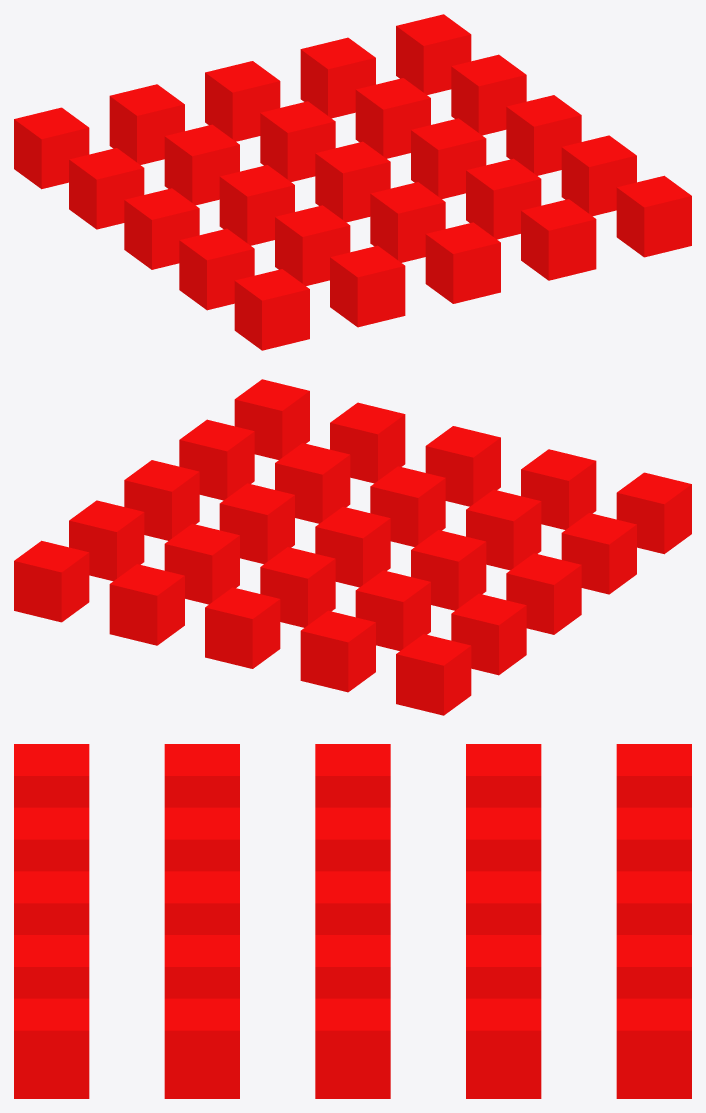
File: AddDeleteOverridesTestTest.gltf
The picture shows the model from 3 angles, top to bottom: view 1: azimuth 30°, elevation 25°; view 2: azimuth 150°, elevation 25°; view 3: azimuth 270°, elevation 25°; orthographic projection. The views are drawn at different scales.
Parts seen in each view (by area): view 1: d7847b73-c9d0-4b13-84c0-2eb0fa26d23d_mesh, bd96fc30-b430-4335-9598-58e1728aca2a_mesh, 16aa0c53-0cfd-4edb-a8e8-47e5a5d94a67_mesh, 3071bda9-e623-47a6-a64b-bba2e9a2588a_mesh, 2e7745fb-f78b-4748-9907-2500d096bcb5_mesh, 9061d52a-7a5b-4df0-ac10-120656057b61_mesh, adcbd2ff-8705-48dd-8040-547fe7599d20_mesh, 42d43924-17d0-4d6a-b59c-8d3b5c53979d_mesh, 6873eba1-29e8-435c-ae31-4a9f1d471cd7_mesh, f62bfc15-d88f-49f2-ba72-03d10684296d_mesh, 25e0a090-681d-48a6-8e15-4cc8d159fc66_mesh, 169d0338-20ba-4b96-92c5-f37ab3f6a44e_mesh (+13 smaller); view 2: 6873eba1-29e8-435c-ae31-4a9f1d471cd7_mesh, 25e0a090-681d-48a6-8e15-4cc8d159fc66_mesh, 8ba4f31e-3ecc-4ca6-81cb-70470c580416_mesh, 7f7aadfb-e6de-4908-a5a8-adef978d6813_mesh, b2e77843-7e80-4371-90ae-898aebd257c7_mesh, 9061d52a-7a5b-4df0-ac10-120656057b61_mesh, 42d43924-17d0-4d6a-b59c-8d3b5c53979d_mesh, adcbd2ff-8705-48dd-8040-547fe7599d20_mesh, d7847b73-c9d0-4b13-84c0-2eb0fa26d23d_mesh, bd96fc30-b430-4335-9598-58e1728aca2a_mesh, a06711d9-e367-42e9-8317-f70d38ba427b_mesh, 1237109f-8caa-4f4d-887f-fe1f242e1256_mesh (+13 smaller); view 3: ac84ad61-59de-4d2d-86d1-ec53b032f39f_mesh, 3071bda9-e623-47a6-a64b-bba2e9a2588a_mesh, 0433e109-240a-4f75-803b-0b1729ebf6e9_mesh, 98ced92f-5093-485d-824c-9c41ed5fbf1b_mesh, 7f7aadfb-e6de-4908-a5a8-adef978d6813_mesh, 05c4649b-ecaf-440e-a66b-c75519c0abf6_mesh, bd96fc30-b430-4335-9598-58e1728aca2a_mesh, a06711d9-e367-42e9-8317-f70d38ba427b_mesh, f62bfc15-d88f-49f2-ba72-03d10684296d_mesh, 25e0a090-681d-48a6-8e15-4cc8d159fc66_mesh, d7847b73-c9d0-4b13-84c0-2eb0fa26d23d_mesh, adcbd2ff-8705-48dd-8040-547fe7599d20_mesh (+13 smaller).
Part boxes in pixels (x1=…): d7847b73-c9d0-4b13-84c0-2eb0fa26d23d_mesh: x1=234, y1=269, x2=309, y2=350; bd96fc30-b430-4335-9598-58e1728aca2a_mesh: x1=330, y1=245, x2=405, y2=327; 16aa0c53-0cfd-4edb-a8e8-47e5a5d94a67_mesh: x1=425, y1=222, x2=500, y2=303; 3071bda9-e623-47a6-a64b-bba2e9a2588a_mesh: x1=616, y1=175, x2=691, y2=257; 2e7745fb-f78b-4748-9907-2500d096bcb5_mesh: x1=521, y1=199, x2=596, y2=280; 9061d52a-7a5b-4df0-ac10-120656057b61_mesh: x1=124, y1=188, x2=199, y2=269; adcbd2ff-8705-48dd-8040-547fe7599d20_mesh: x1=179, y1=228, x2=254, y2=310; 42d43924-17d0-4d6a-b59c-8d3b5c53979d_mesh: x1=69, y1=148, x2=144, y2=229; 6873eba1-29e8-435c-ae31-4a9f1d471cd7_mesh: x1=14, y1=107, x2=89, y2=189; f62bfc15-d88f-49f2-ba72-03d10684296d_mesh: x1=164, y1=124, x2=239, y2=205; 25e0a090-681d-48a6-8e15-4cc8d159fc66_mesh: x1=109, y1=84, x2=184, y2=164; 169d0338-20ba-4b96-92c5-f37ab3f6a44e_mesh: x1=260, y1=101, x2=335, y2=181; 6873eba1-29e8-435c-ae31-4a9f1d471cd7_mesh: x1=396, y1=634, x2=471, y2=715; 25e0a090-681d-48a6-8e15-4cc8d159fc66_mesh: x1=300, y1=610, x2=375, y2=692; 8ba4f31e-3ecc-4ca6-81cb-70470c580416_mesh: x1=205, y1=587, x2=280, y2=668; 7f7aadfb-e6de-4908-a5a8-adef978d6813_mesh: x1=14, y1=540, x2=89, y2=622; b2e77843-7e80-4371-90ae-898aebd257c7_mesh: x1=109, y1=564, x2=184, y2=645; 9061d52a-7a5b-4df0-ac10-120656057b61_mesh: x1=506, y1=553, x2=581, y2=634; 42d43924-17d0-4d6a-b59c-8d3b5c53979d_mesh: x1=451, y1=593, x2=526, y2=675; adcbd2ff-8705-48dd-8040-547fe7599d20_mesh: x1=561, y1=513, x2=636, y2=594; d7847b73-c9d0-4b13-84c0-2eb0fa26d23d_mesh: x1=616, y1=472, x2=691, y2=554; bd96fc30-b430-4335-9598-58e1728aca2a_mesh: x1=521, y1=449, x2=596, y2=529; a06711d9-e367-42e9-8317-f70d38ba427b_mesh: x1=466, y1=489, x2=541, y2=570; 1237109f-8caa-4f4d-887f-fe1f242e1256_mesh: x1=370, y1=466, x2=445, y2=546; ac84ad61-59de-4d2d-86d1-ec53b032f39f_mesh: x1=315, y1=998, x2=390, y2=1098; 3071bda9-e623-47a6-a64b-bba2e9a2588a_mesh: x1=14, y1=998, x2=89, y2=1098; 0433e109-240a-4f75-803b-0b1729ebf6e9_mesh: x1=164, y1=998, x2=239, y2=1098; 98ced92f-5093-485d-824c-9c41ed5fbf1b_mesh: x1=466, y1=998, x2=541, y2=1098; 7f7aadfb-e6de-4908-a5a8-adef978d6813_mesh: x1=616, y1=998, x2=691, y2=1098; 05c4649b-ecaf-440e-a66b-c75519c0abf6_mesh: x1=315, y1=807, x2=390, y2=871; bd96fc30-b430-4335-9598-58e1728aca2a_mesh: x1=14, y1=807, x2=89, y2=871; a06711d9-e367-42e9-8317-f70d38ba427b_mesh: x1=164, y1=807, x2=239, y2=871; f62bfc15-d88f-49f2-ba72-03d10684296d_mesh: x1=466, y1=807, x2=541, y2=871; 25e0a090-681d-48a6-8e15-4cc8d159fc66_mesh: x1=616, y1=807, x2=691, y2=871; d7847b73-c9d0-4b13-84c0-2eb0fa26d23d_mesh: x1=14, y1=744, x2=89, y2=807; adcbd2ff-8705-48dd-8040-547fe7599d20_mesh: x1=164, y1=744, x2=239, y2=807.
Bounding box in the file's own units: 9 × 1 × 9.
